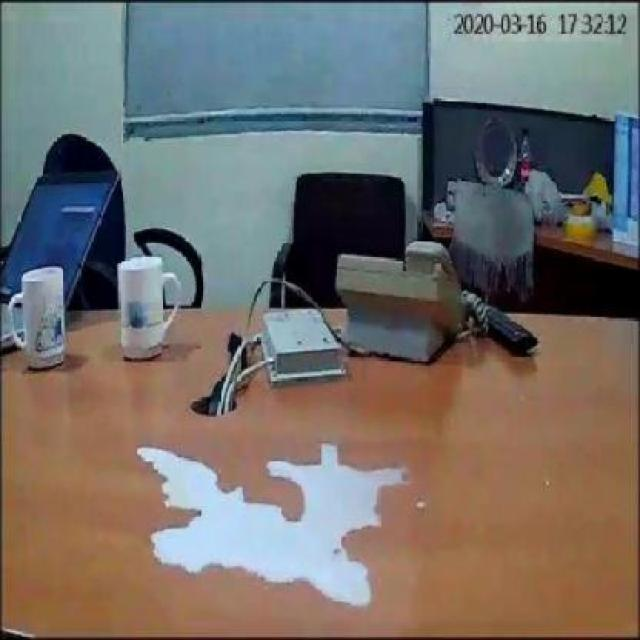spillage: (136, 443, 402, 609)
